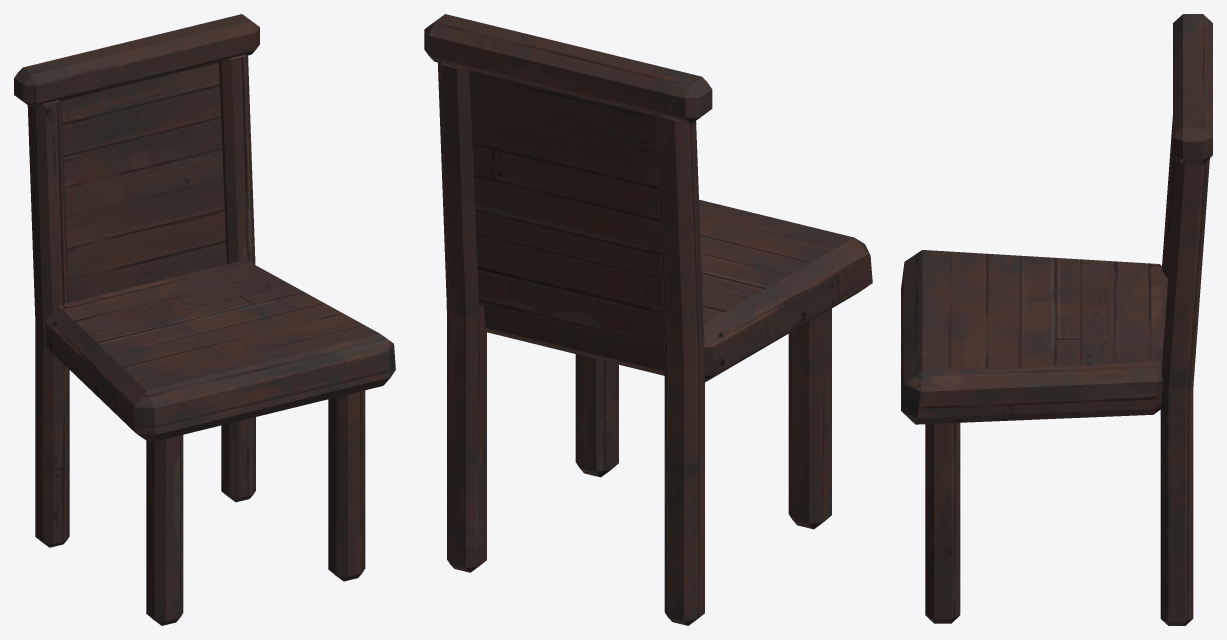
The model's file is chair_horror.glb.
3 renders of one model, left to right at view 1: azimuth 30°, elevation 25°; view 2: azimuth 150°, elevation 25°; view 3: azimuth 270°, elevation 25°, orthographic. The views are drawn at different scales.
Visible parts, largest first — view 1: chair_geo1; view 2: chair_geo1; view 3: chair_geo1.
Part boxes in pixels (bbox=[...]): chair_geo1: bbox=[14, 14, 395, 625]; chair_geo1: bbox=[424, 14, 872, 625]; chair_geo1: bbox=[901, 14, 1212, 625].
Size of the model in its own units: 0.5913 by 1.02 by 0.5757.
1 material, 1 textured.
